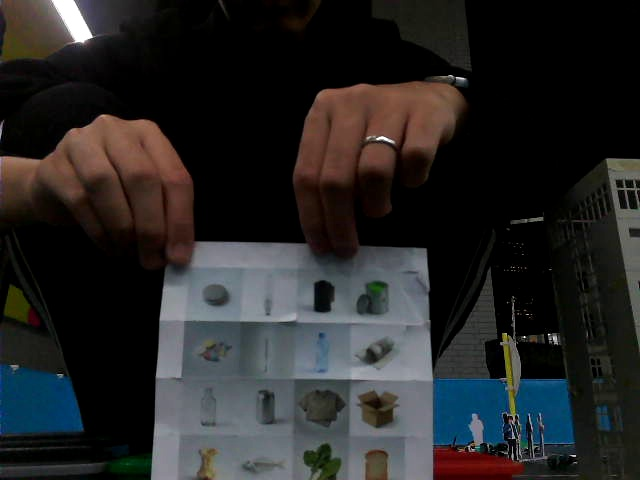food_trash: (237, 437, 289, 479), (295, 437, 345, 479), (181, 437, 228, 480), (352, 440, 396, 478)
hazardous_trash: (240, 325, 293, 379), (186, 324, 239, 374), (298, 272, 345, 322), (192, 270, 238, 320), (347, 274, 400, 316), (244, 273, 291, 315)
recyclable_trash: (351, 382, 406, 436), (349, 327, 405, 379), (293, 326, 347, 379), (184, 380, 236, 435), (295, 382, 348, 433), (240, 382, 292, 432)
